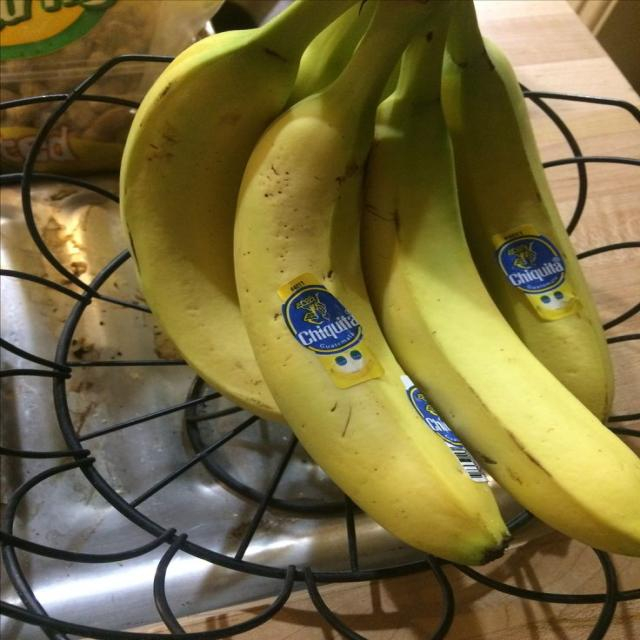unpeal banana: (234, 0, 508, 564), (362, 29, 639, 555), (120, 0, 354, 421), (442, 0, 613, 420), (288, 2, 374, 106)
